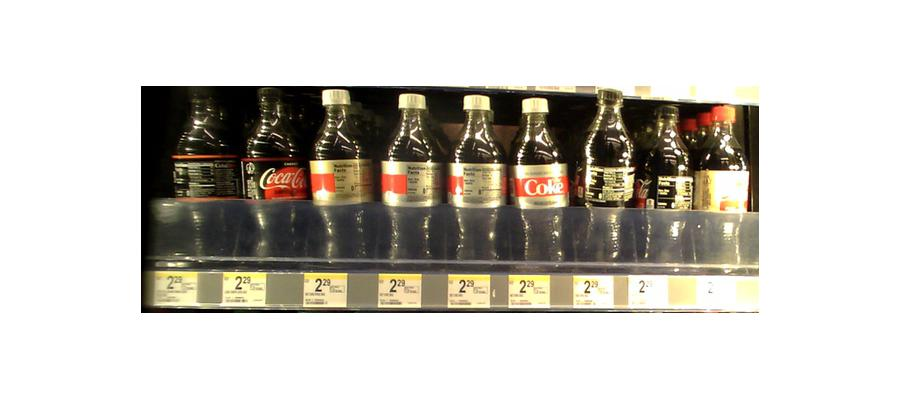bottle: (310, 86, 377, 266), (243, 84, 307, 263), (174, 89, 239, 262), (383, 91, 445, 269), (512, 94, 570, 270), (450, 95, 506, 268), (580, 89, 633, 266), (696, 100, 749, 270), (640, 98, 690, 270)
